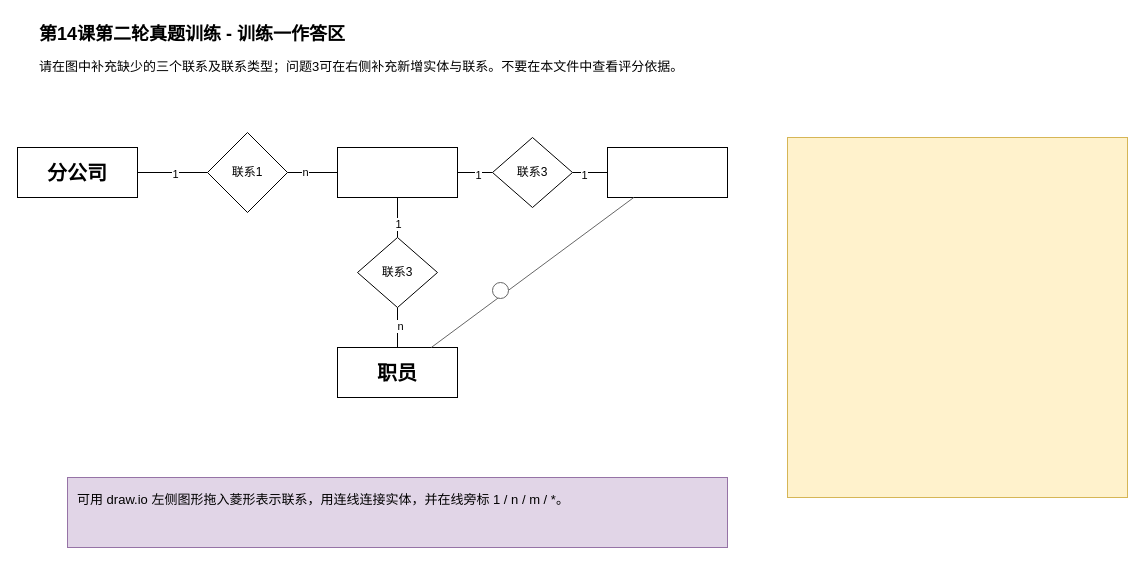
Some shapes in this 1145 by 565 pixel diagram are drawn without their labels. The centre of each missing label's shape, as x and y in pixels:
"专卖店" belongs at [397,172].
"关系模式 / 主外键作答区 问题2： （a）： （b）： （c）： （d）： （e）： （f）： 问题3： （g）： （h）： 新增关系模式：" belongs at [957,317].
"店长" belongs at [667,172].
